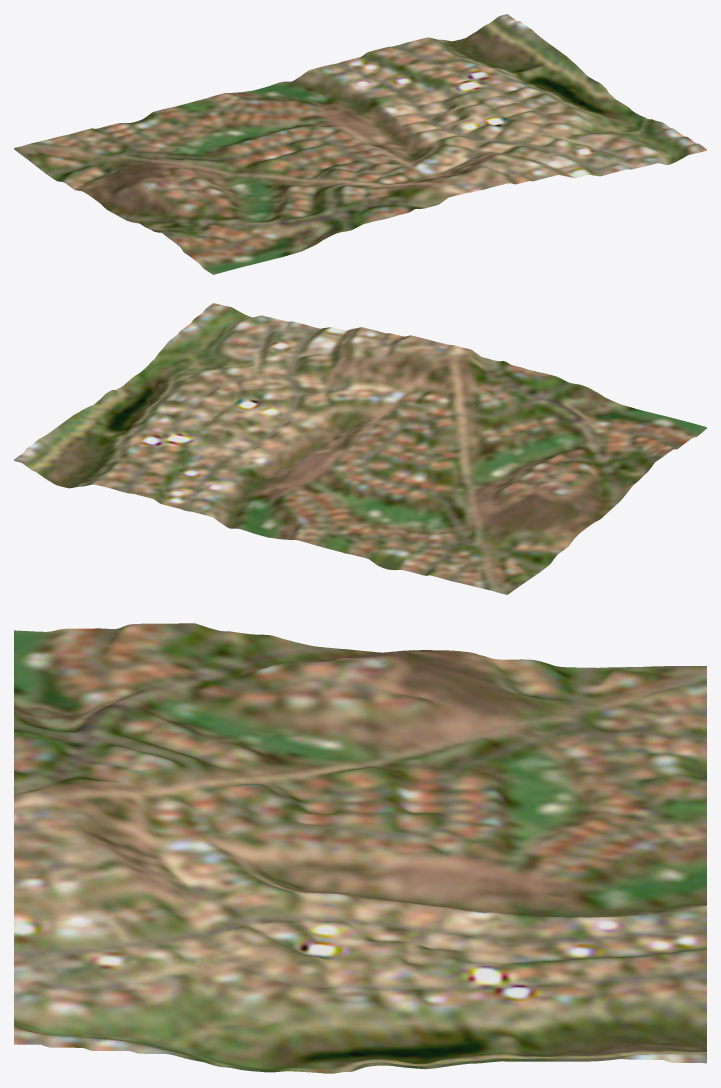
The model's file is terrain_r2_c1.glb.
3 views of the same model, one above another, from view 1: azimuth 30°, elevation 25°; view 2: azimuth 150°, elevation 25°; view 3: azimuth 270°, elevation 25° (orthographic). The views are drawn at different scales.
Parts seen in each view (by area): view 1: terrain_r2_c1_lod0; view 2: terrain_r2_c1_lod0; view 3: terrain_r2_c1_lod0.
Part boxes in pixels (left/top/right/bottom): terrain_r2_c1_lod0: left=14, top=14, right=706, bottom=274; terrain_r2_c1_lod0: left=14, top=303, right=706, bottom=594; terrain_r2_c1_lod0: left=14, top=623, right=706, bottom=1073.
Size of the model in its own units: 1125 by 101 by 787.
1 material, 1 textured.
